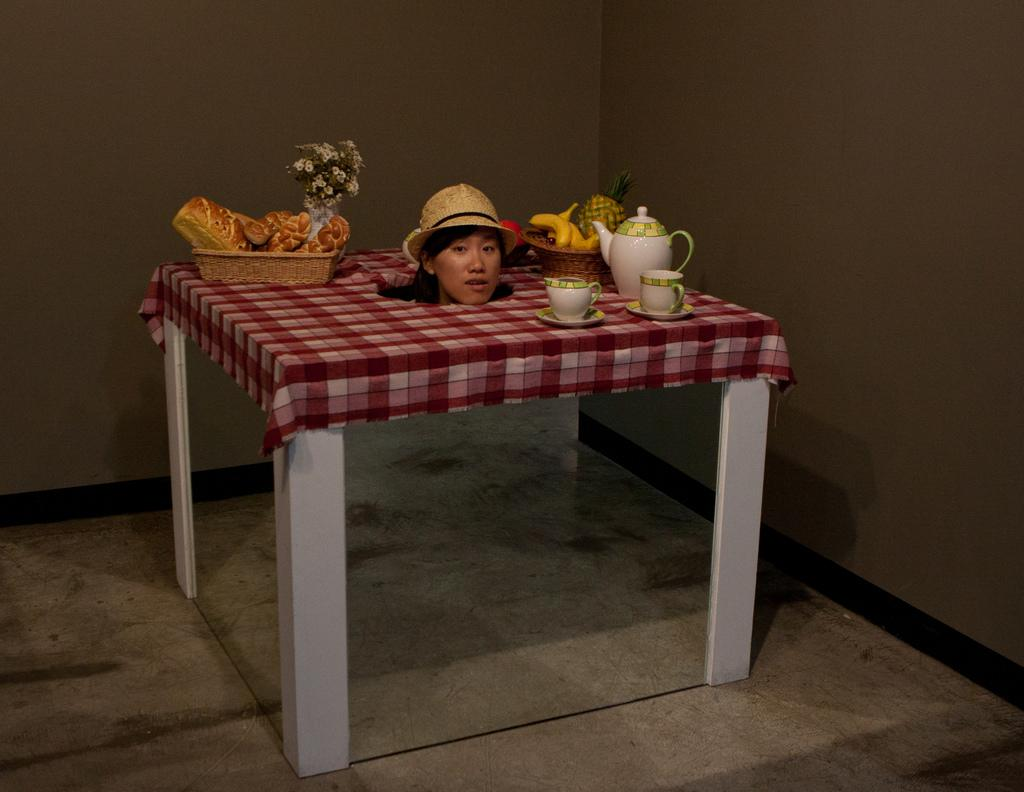Hat: (405, 181, 515, 262)
